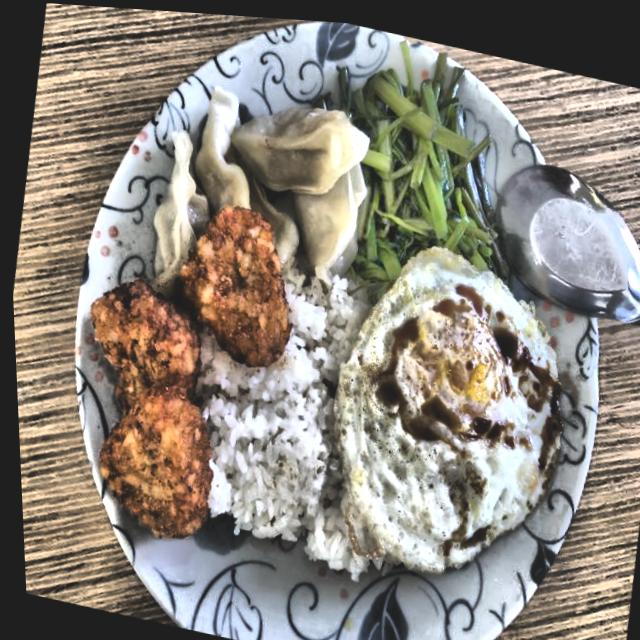Food: (309, 226, 587, 587), (52, 264, 242, 548), (195, 312, 354, 555), (183, 69, 377, 241), (346, 58, 514, 255), (158, 188, 309, 371)
